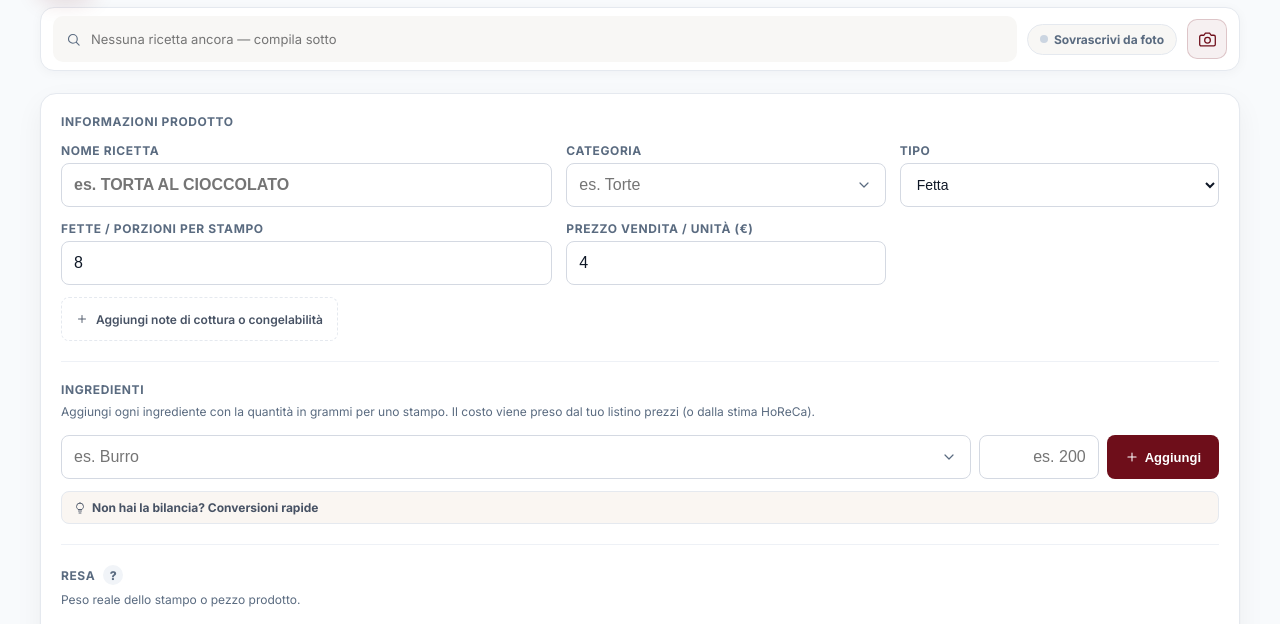
Test: Nuovo gusto - gli allergeni sono una proposta, non una sentenza › un allergene trovato resta marcato come proposto, da confermare
The image size is (1280, 624).
Type "Burro" into the dropdown named "nome ingrediente da aggiungere".
click(516, 457); type("Burro")  # box [61,435,971,479]
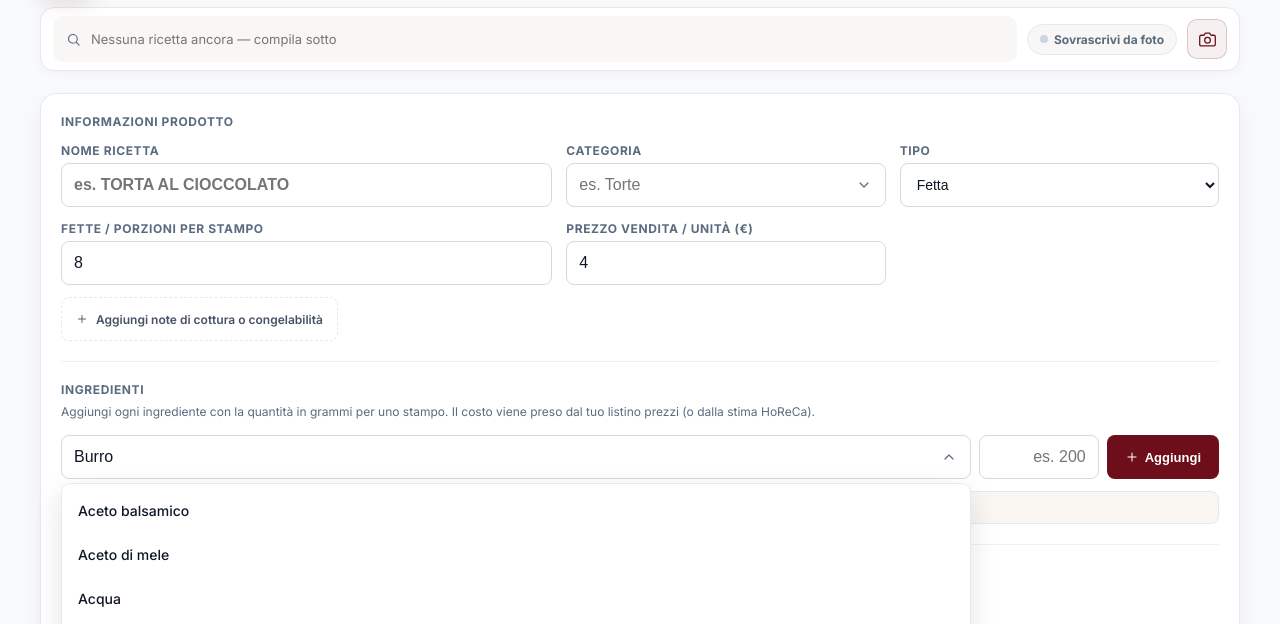
Type "250" into the field named "grammi di ingrediente da aggiungere".
click(1039, 457); type("250")  # box [979,435,1099,479]
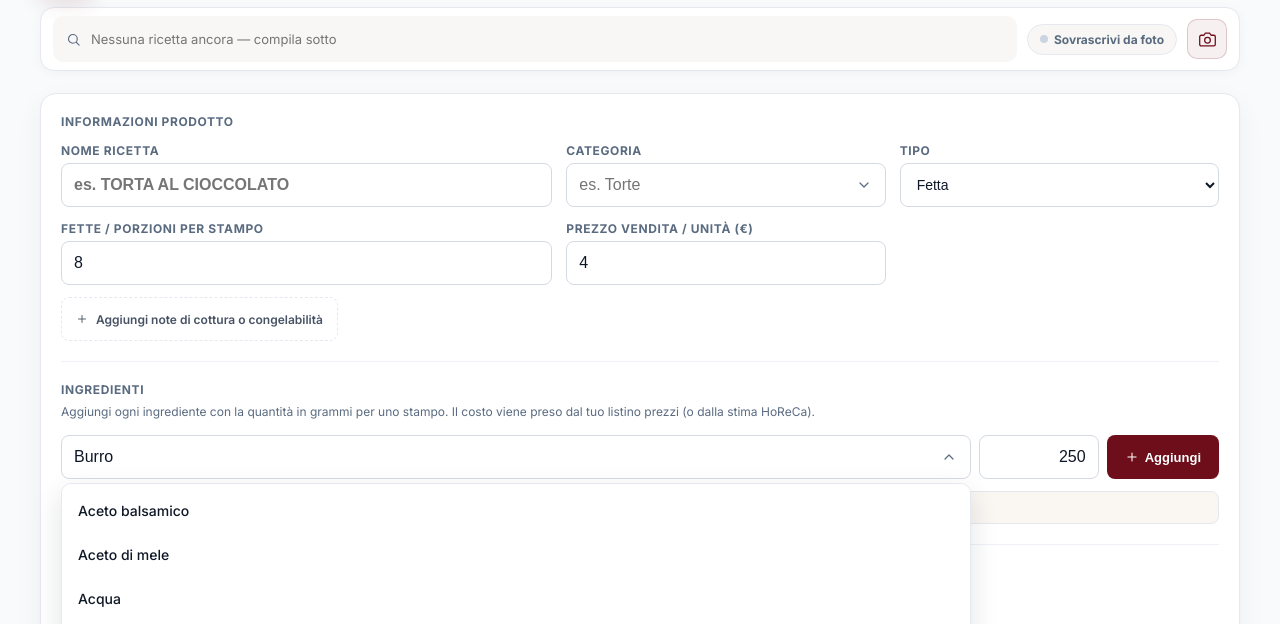
Click the button with aria-label "Aggiungi ingrediente alla ricetta".
click(1163, 457)  # box [1107,435,1219,479]
(page scrolled)
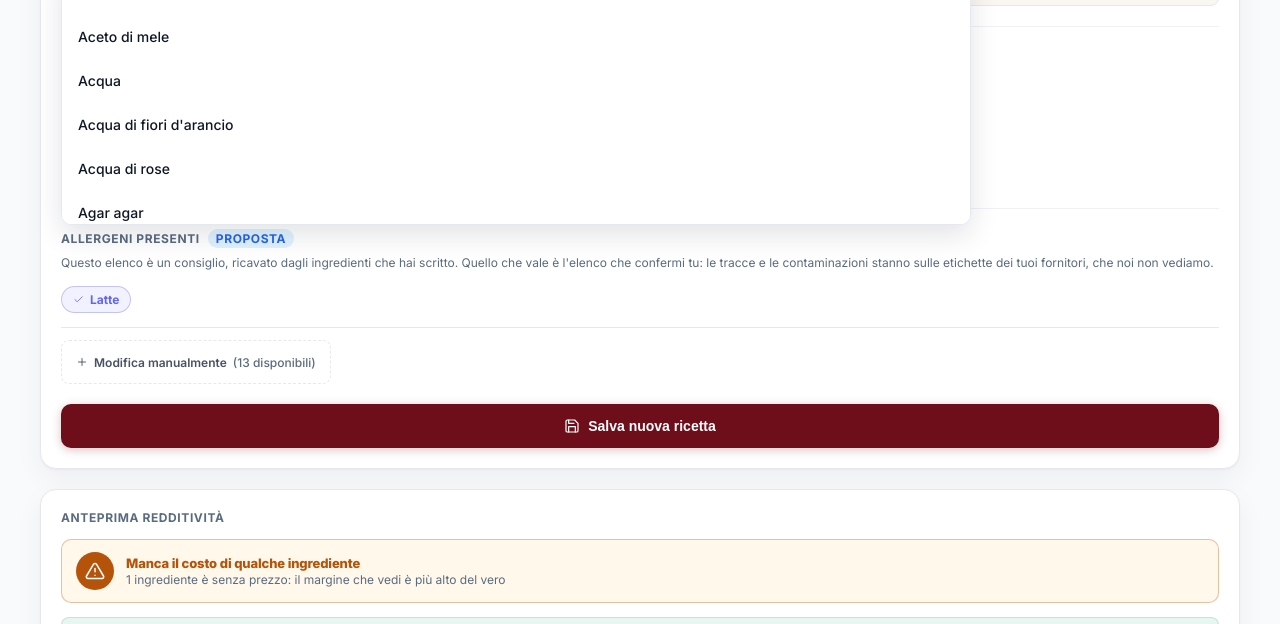
Now the text "Latte" is shown, box [61,286,132,313]
